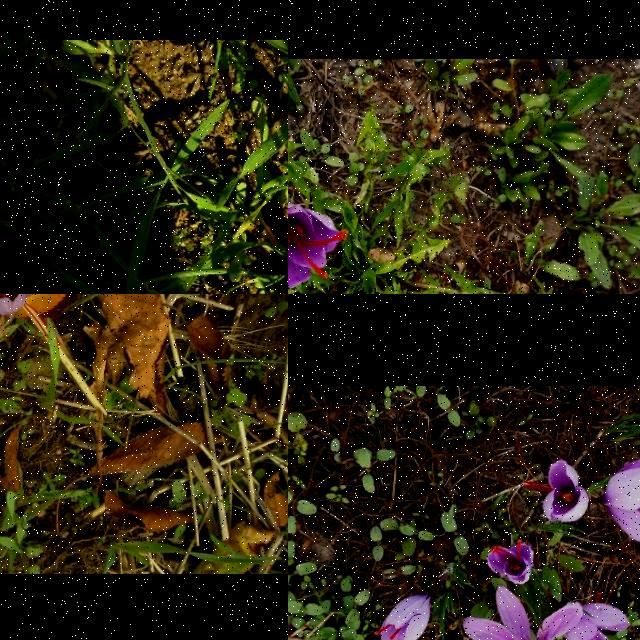flower: (462, 587, 583, 640), (288, 200, 349, 289), (522, 460, 590, 522), (601, 456, 640, 543), (564, 591, 630, 640), (374, 590, 433, 640), (486, 540, 532, 584)
